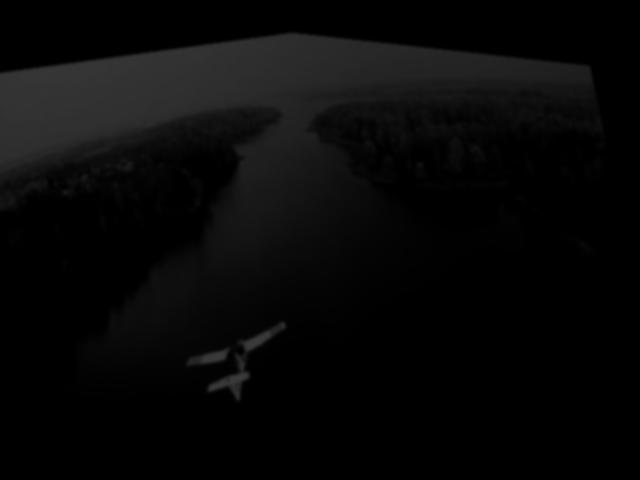hedef: (176, 293, 310, 423)
